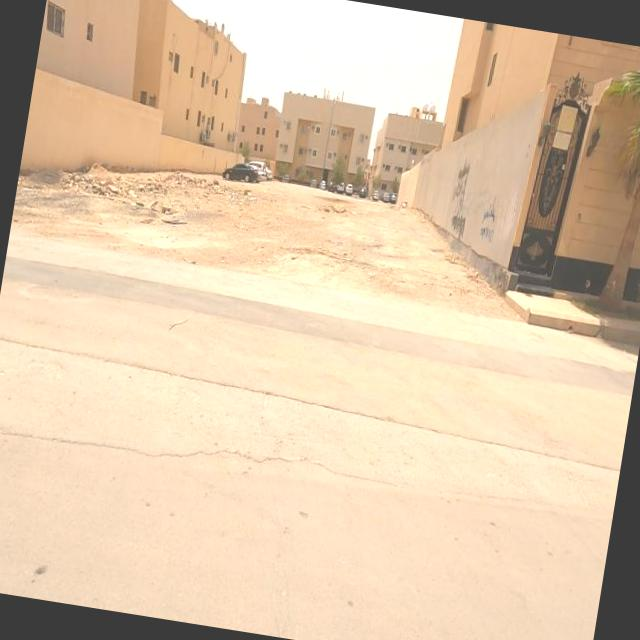debris: (447, 163, 532, 291), (410, 176, 490, 270), (425, 132, 497, 232)
